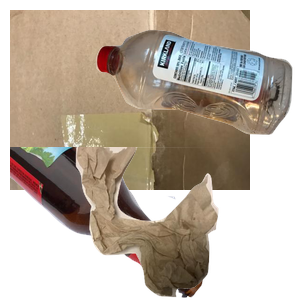cardboard: (10, 10, 250, 190)
glass: (10, 147, 207, 300)
plastic: (93, 27, 300, 154)
trash: (73, 147, 300, 300)
